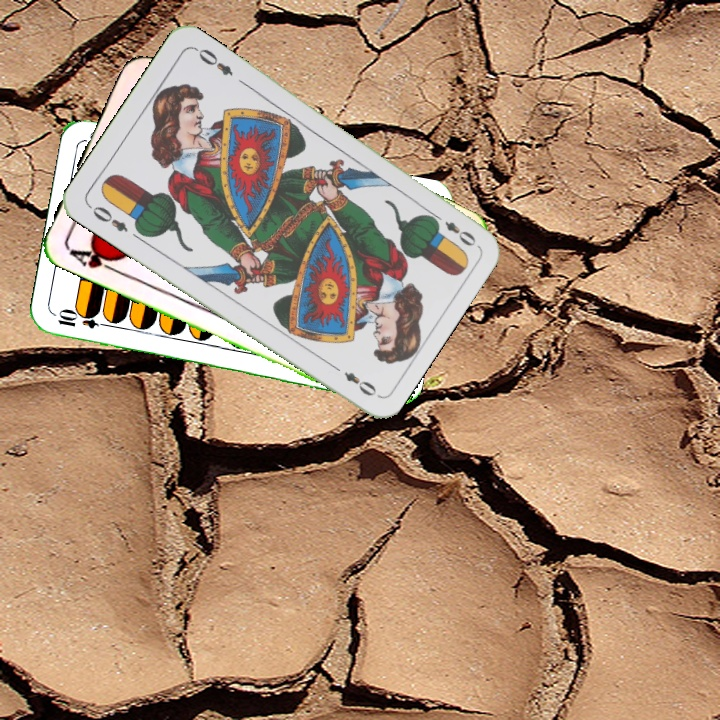E10: (54, 308, 113, 331)
EO: (427, 208, 479, 249), (84, 201, 131, 235)
HA: (65, 242, 124, 276)
